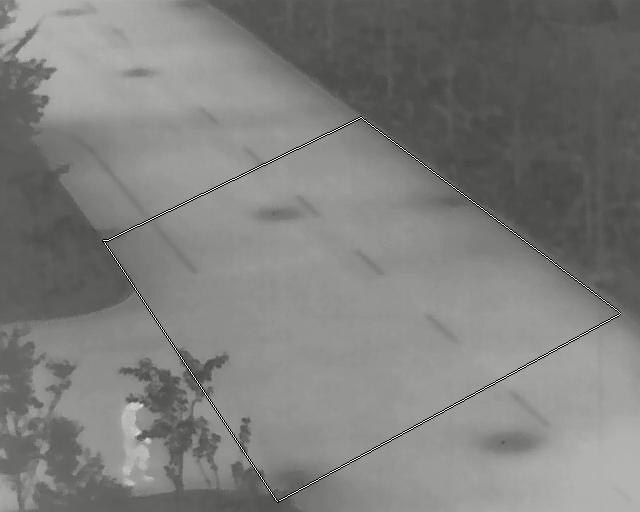person: (116, 395, 156, 486)
